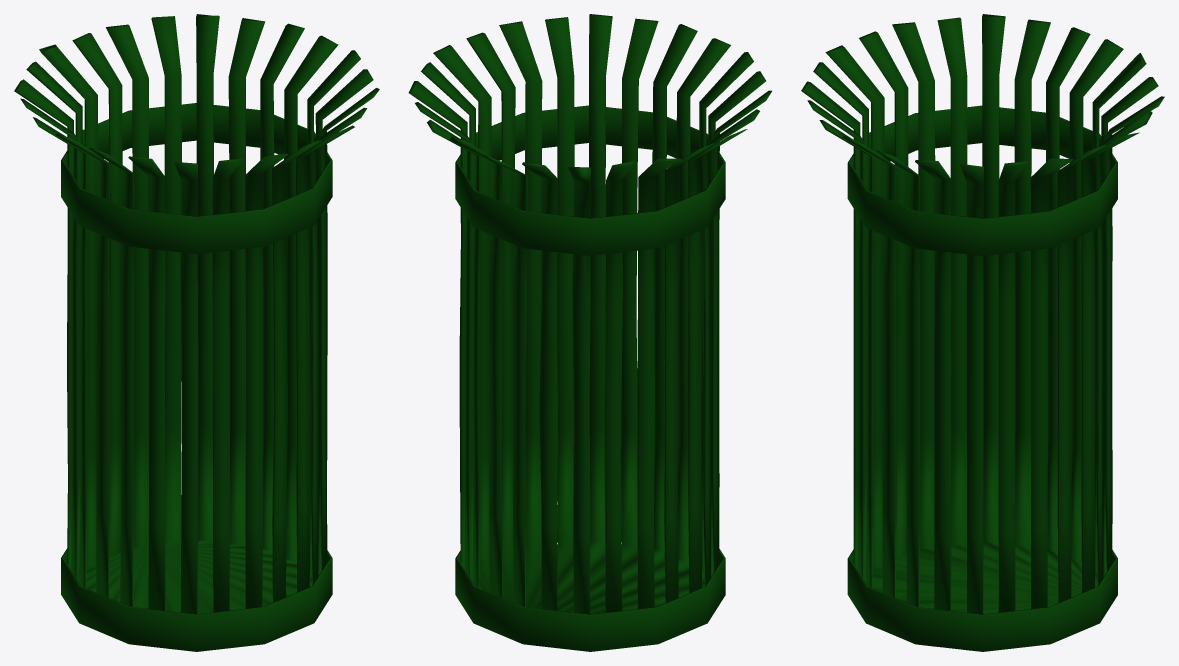
Rendered from Garbage_Can.fbx.
3 views of the same model, side by side, from view 1: azimuth 30°, elevation 25°; view 2: azimuth 150°, elevation 25°; view 3: azimuth 270°, elevation 25° (orthographic).
Visible parts, largest first — view 1: Cylinder, Circle, Circle.001; view 2: Cylinder, Circle, Circle.001; view 3: Cylinder, Circle, Circle.001.
Boxes of the visible parts, x1,y1,x2,y2 form: Cylinder: [14, 14, 379, 614]; Circle: [61, 103, 332, 254]; Circle.001: [61, 548, 332, 651]; Cylinder: [408, 14, 771, 614]; Circle: [455, 105, 725, 255]; Circle.001: [455, 505, 725, 651]; Cylinder: [801, 14, 1164, 650]; Circle: [847, 105, 1117, 255]; Circle.001: [847, 549, 1117, 651].
Size of the model in its own units: 281 by 432 by 281.
